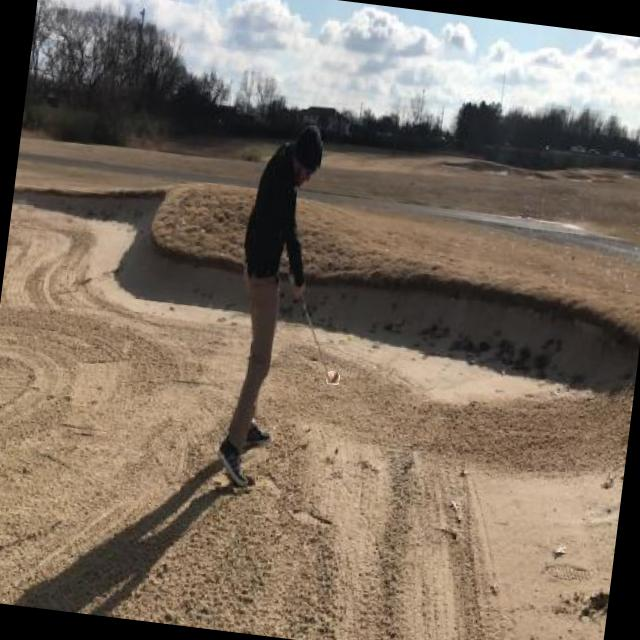club head: (326, 371, 340, 385)
